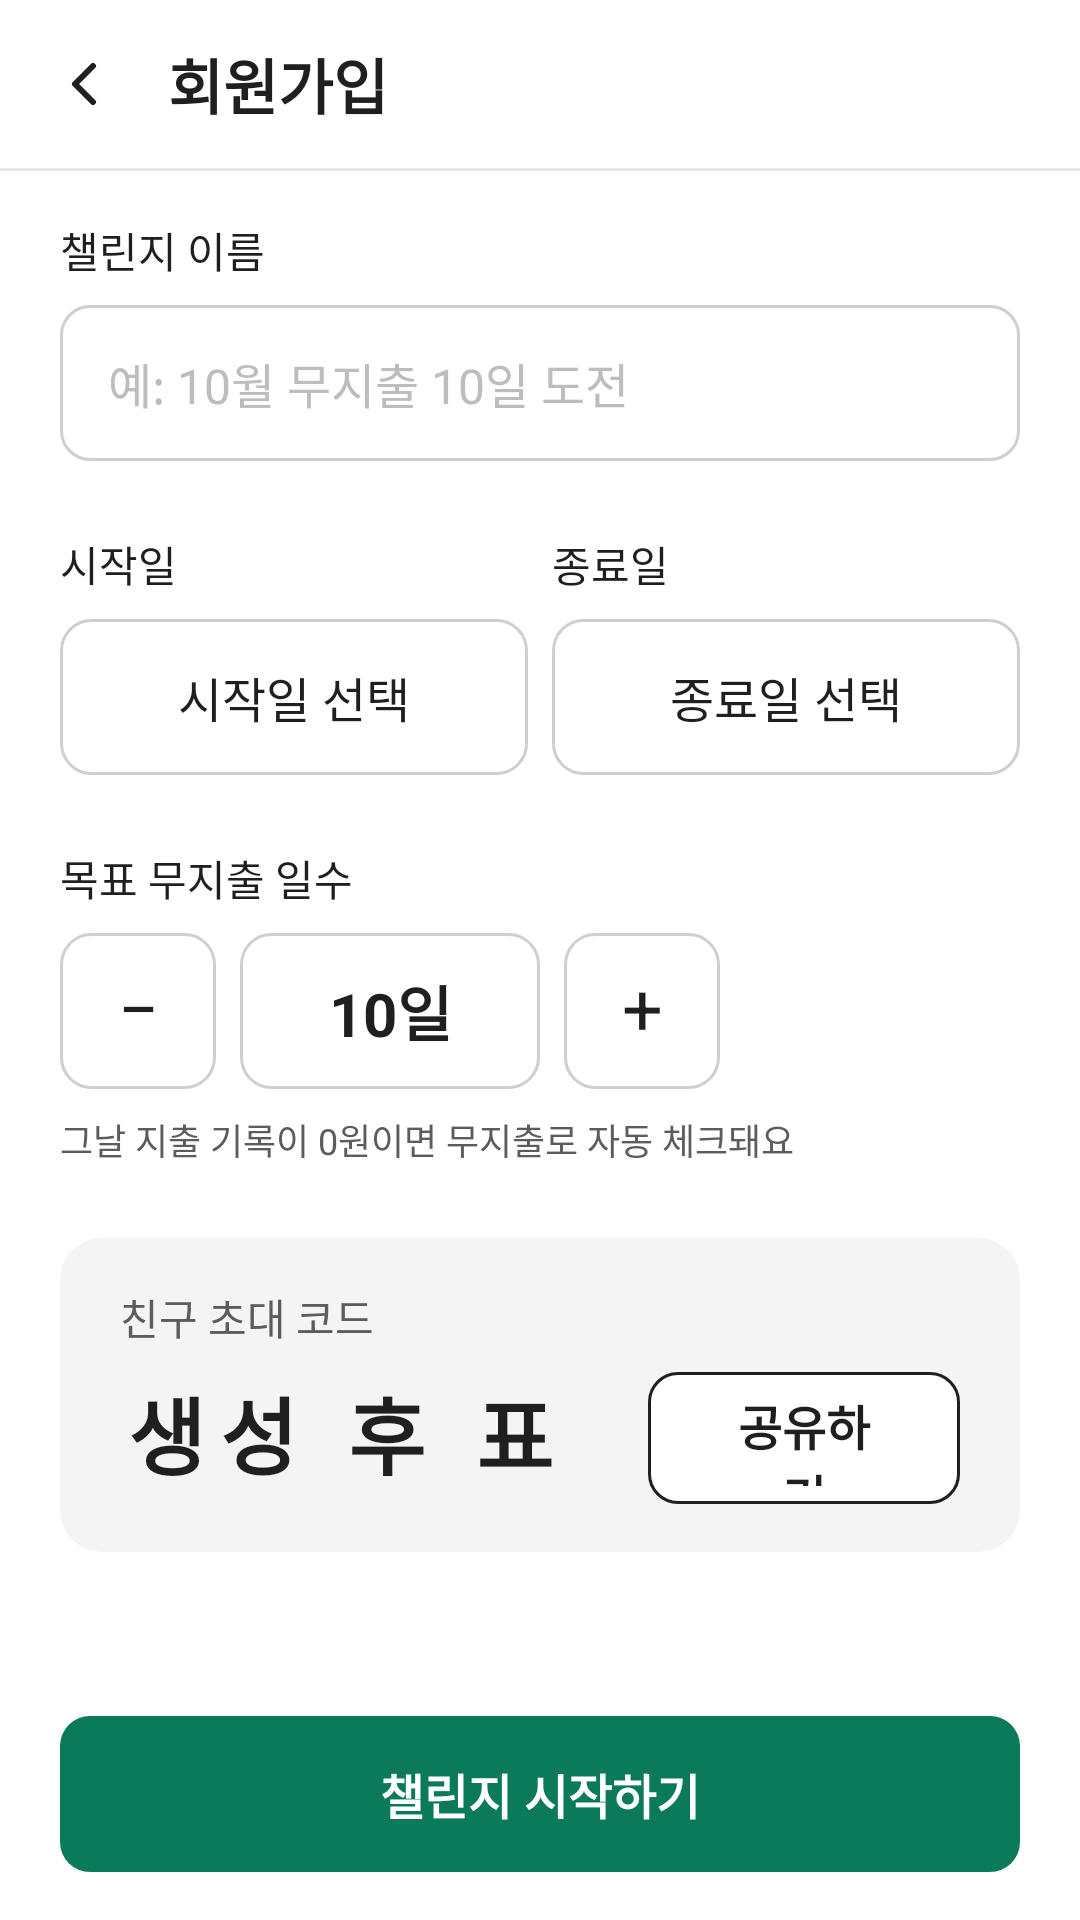

Icons on this 1080 x 1920 Android screen, each with the point to tap as (x=x, y=y):
뒤로 가기: (x=84, y=84)
